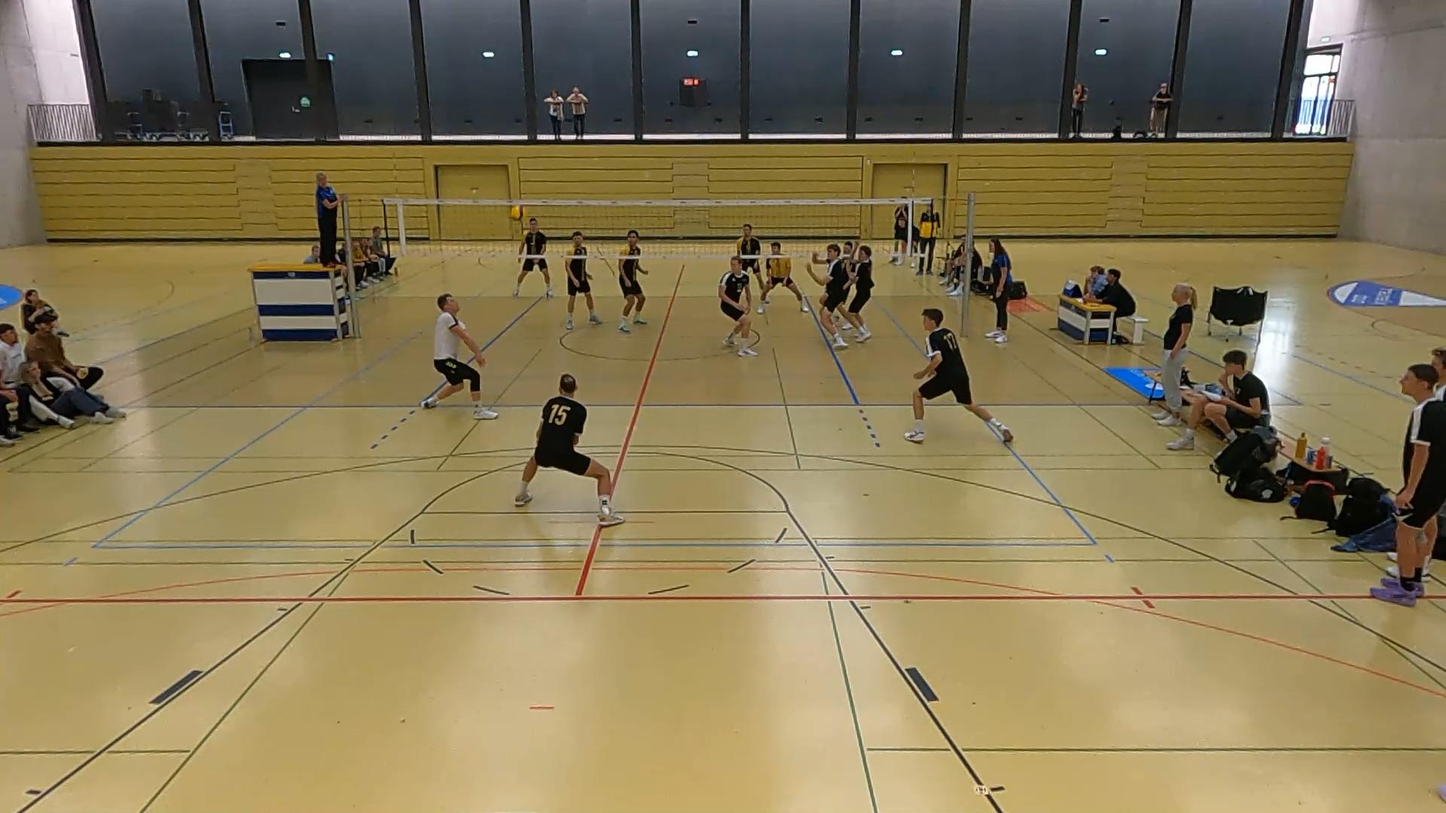difesa: (415, 292, 502, 423)
